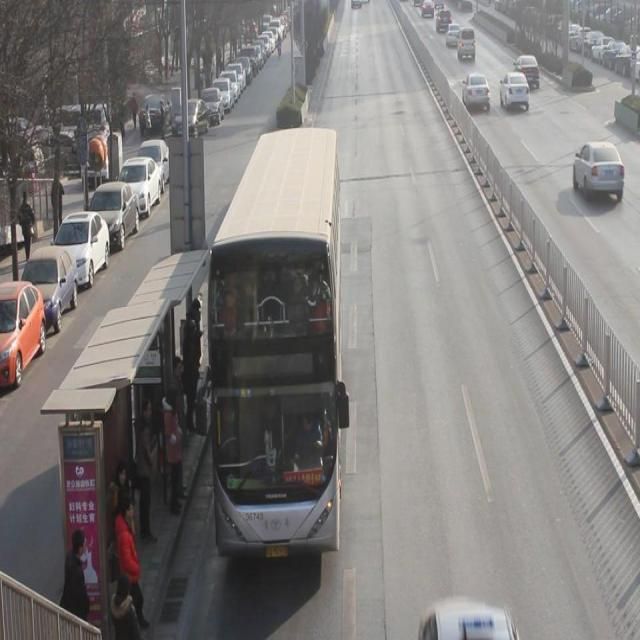car: (416, 599, 516, 640), (573, 143, 627, 208), (498, 74, 530, 116), (462, 75, 492, 117), (512, 56, 540, 91), (435, 10, 453, 36), (446, 25, 462, 50)
truck: (455, 29, 477, 65)
van: (205, 131, 338, 552)
